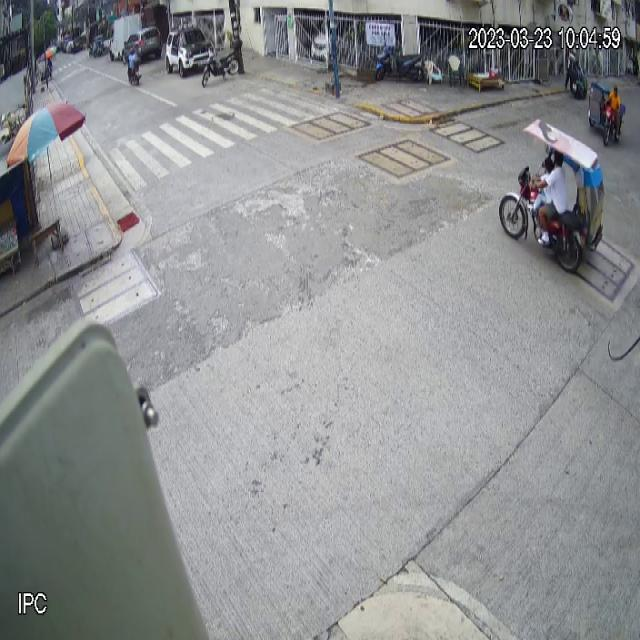Tricycle: (497, 114, 607, 274)
